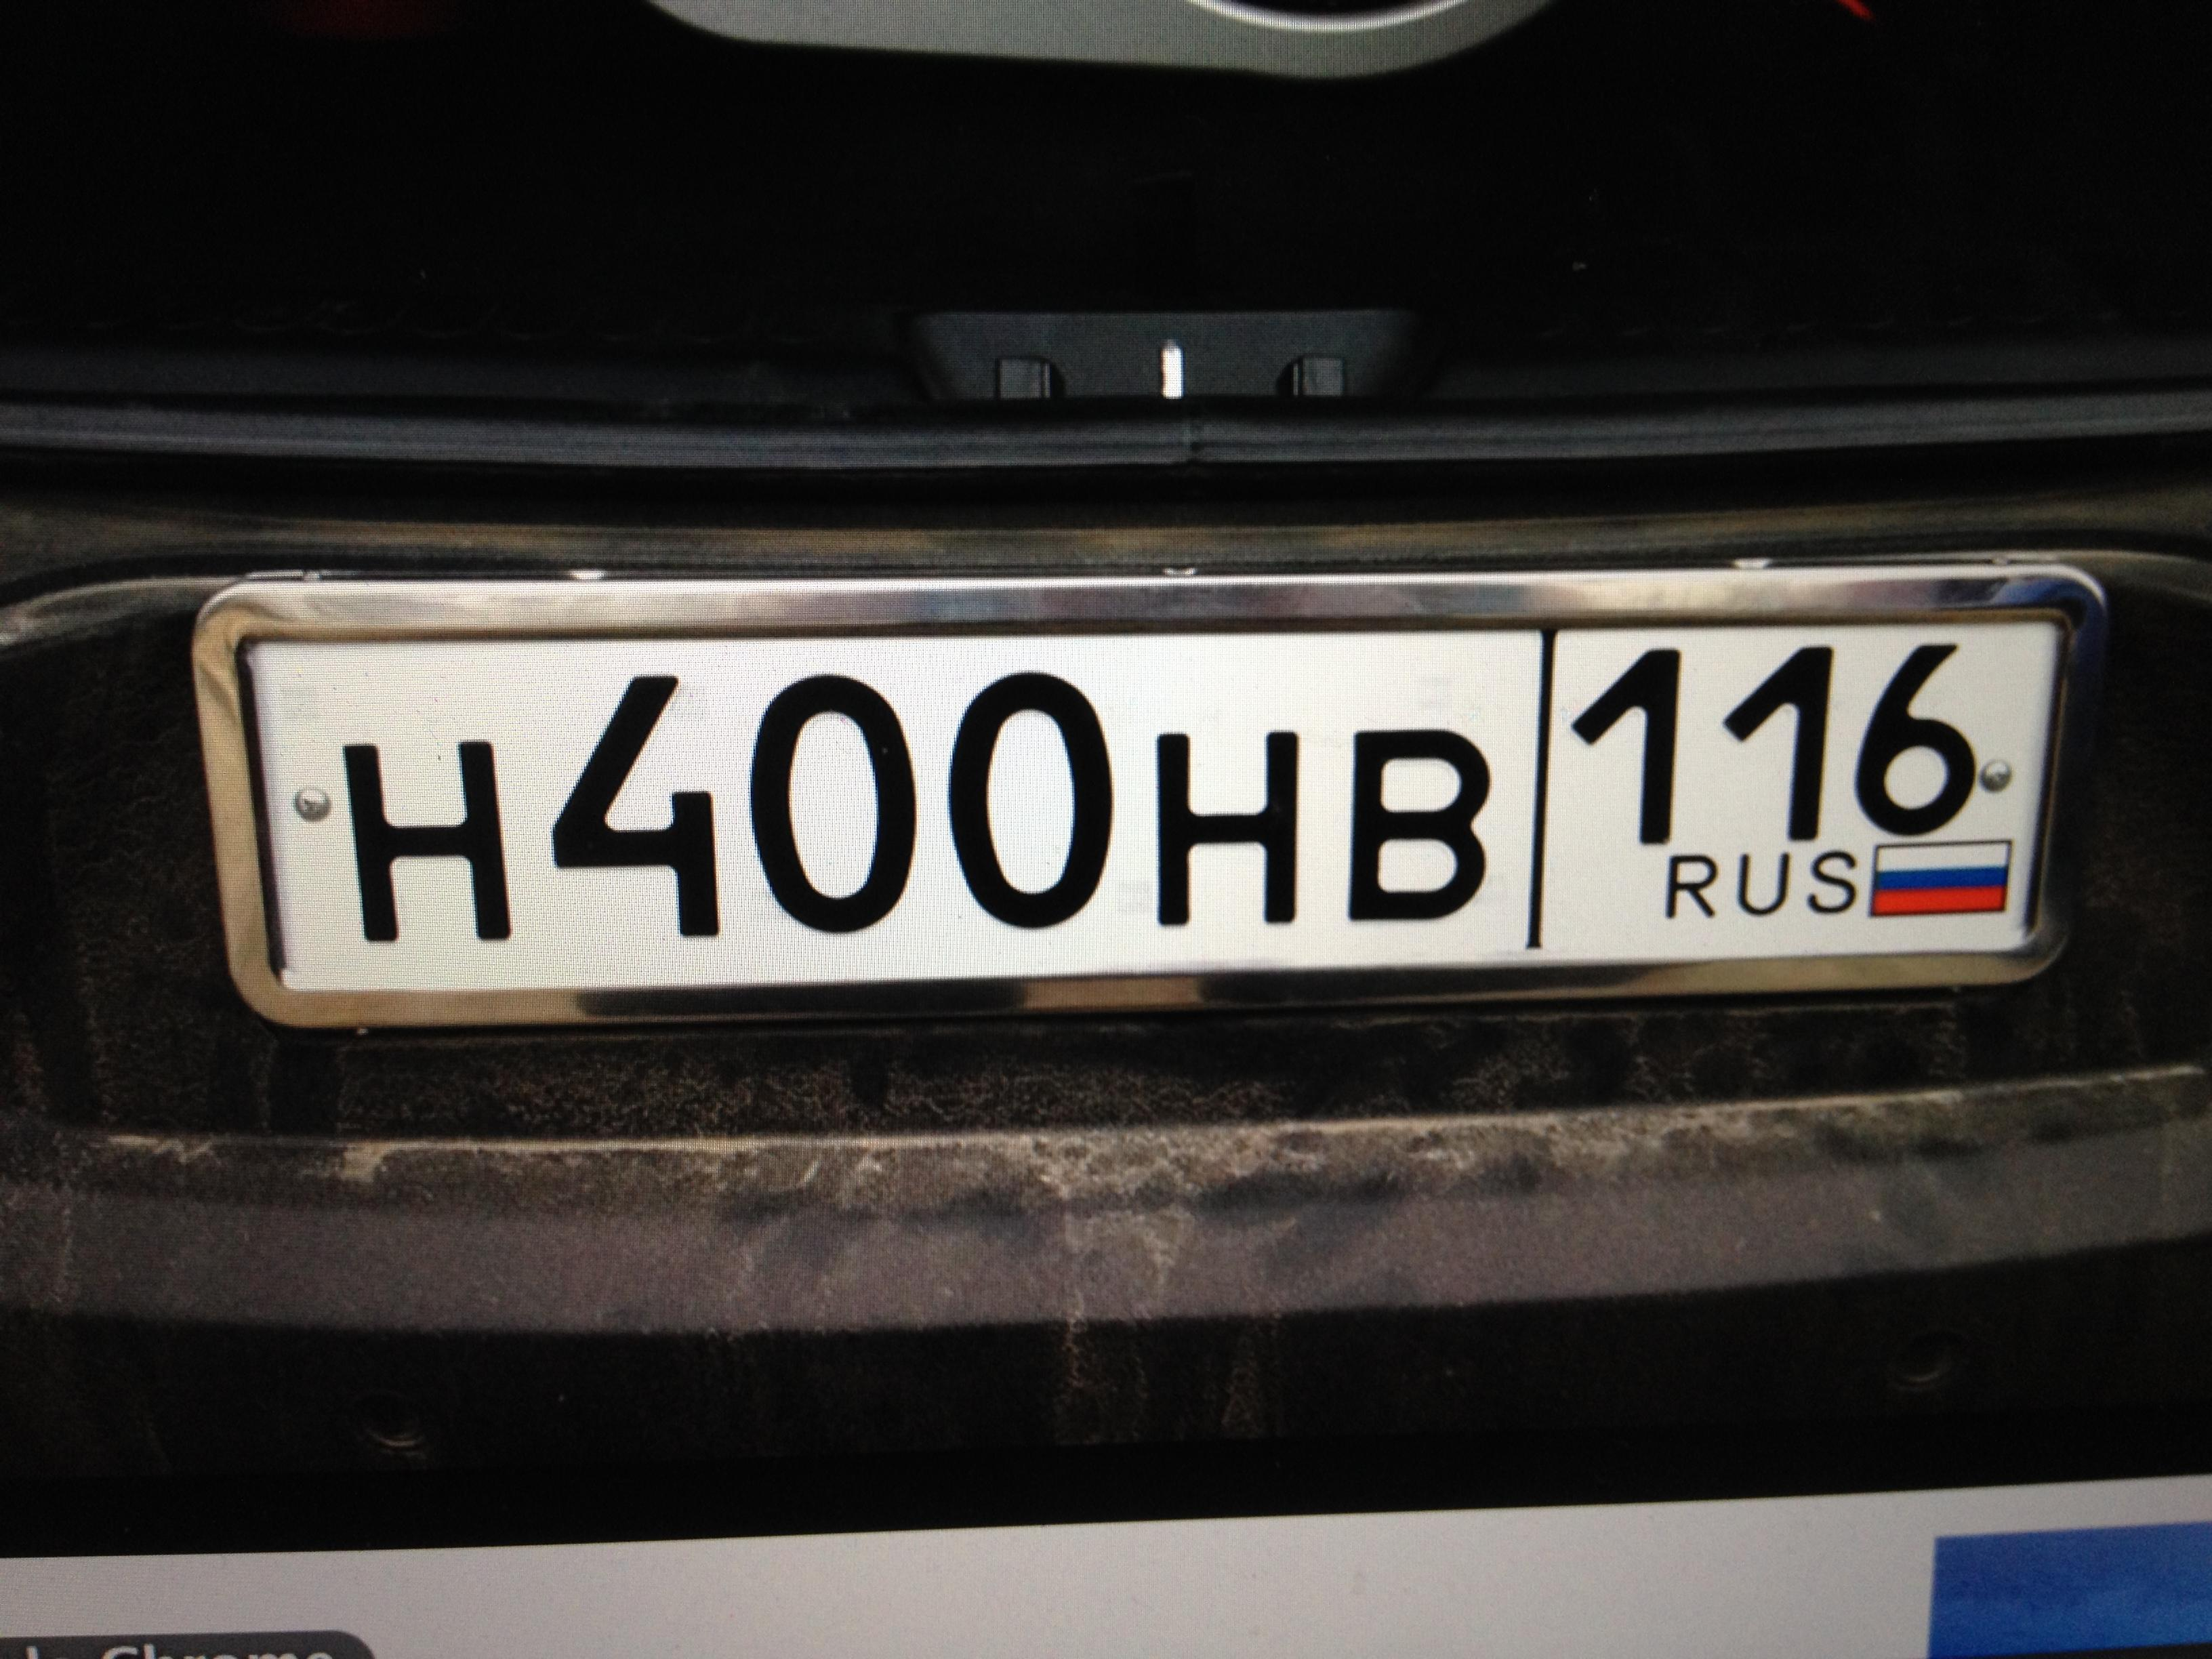license-plateSW: (239, 612, 2076, 996)
